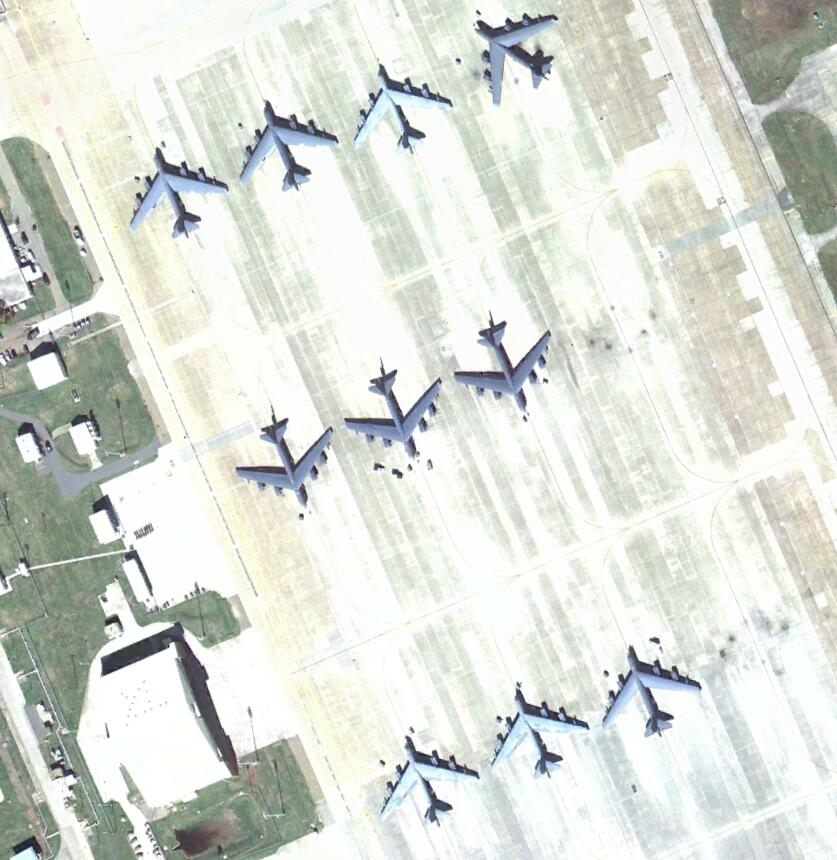A8: (231, 400, 338, 512), (450, 305, 554, 417), (341, 357, 447, 461), (599, 644, 704, 744), (374, 734, 482, 831), (349, 67, 456, 162), (488, 684, 590, 783), (239, 99, 343, 196), (464, 9, 562, 111), (124, 152, 232, 244)
